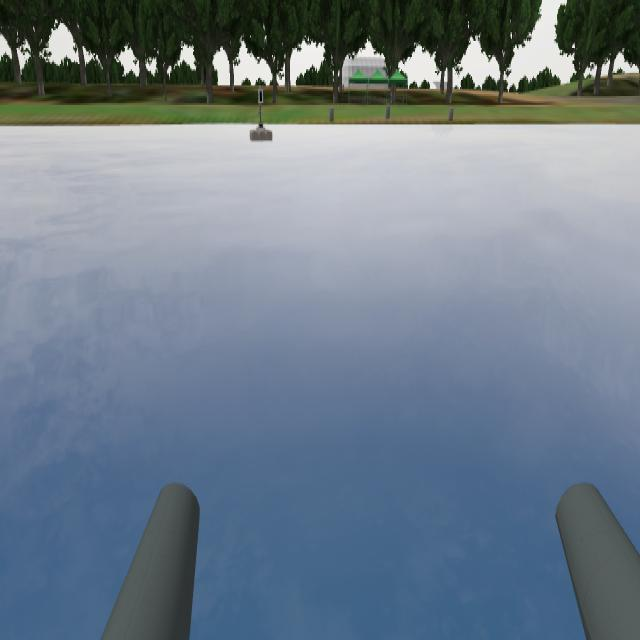black_pole: (254, 78, 268, 109)
